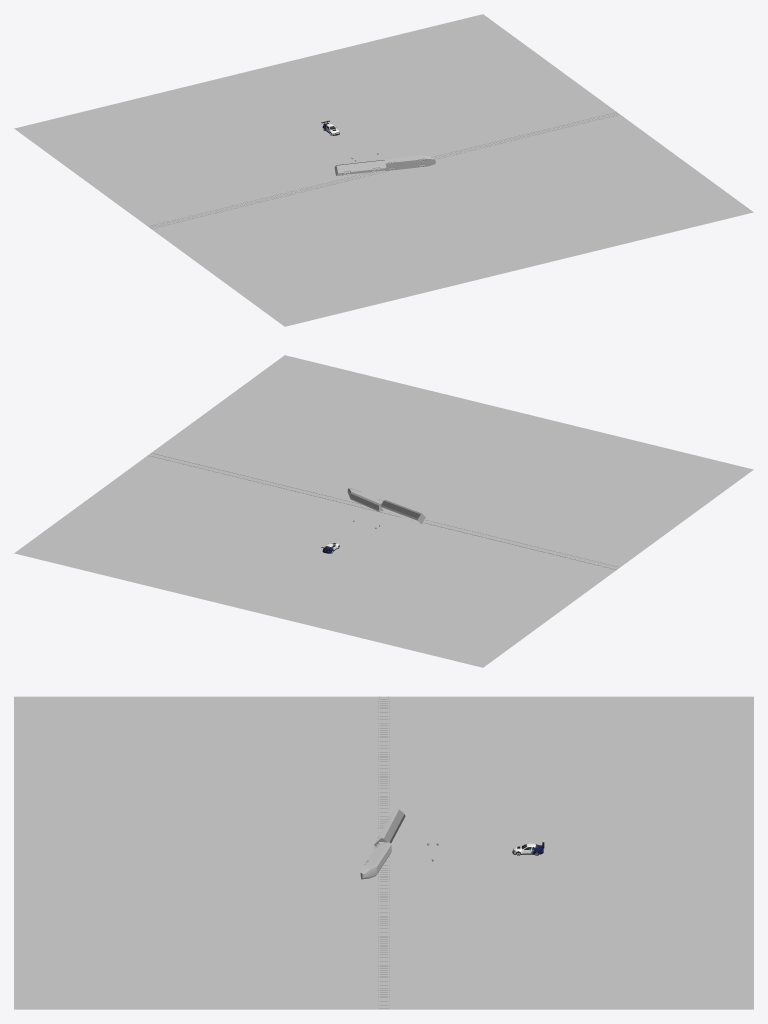
Rendered from changjing2_1.fbx.
3 views of the same model, one above another, from view 1: azimuth 30°, elevation 25°; view 2: azimuth 150°, elevation 25°; view 3: azimuth 270°, elevation 25° (orthographic). The views are drawn at different scales.
Parts seen in each view (by area): view 1: changjing2_1, huochedao, huoche1; view 2: changjing2_1, huochedao, huoche1; view 3: changjing2_1, huochedao, huoche1.
Boxes of the visible parts, <box> form: changjing2_1: <box>14,14,753,326</box>; huochedao: <box>148,111,619,228</box>; huoche1: <box>334,155,435,175</box>; changjing2_1: <box>14,355,753,667</box>; huochedao: <box>148,452,619,569</box>; huoche1: <box>347,488,425,524</box>; changjing2_1: <box>14,696,753,1009</box>; huochedao: <box>378,696,389,1009</box>; huoche1: <box>360,808,405,879</box>.
Size of the model in its own units: 34371 by 833 by 34371.
